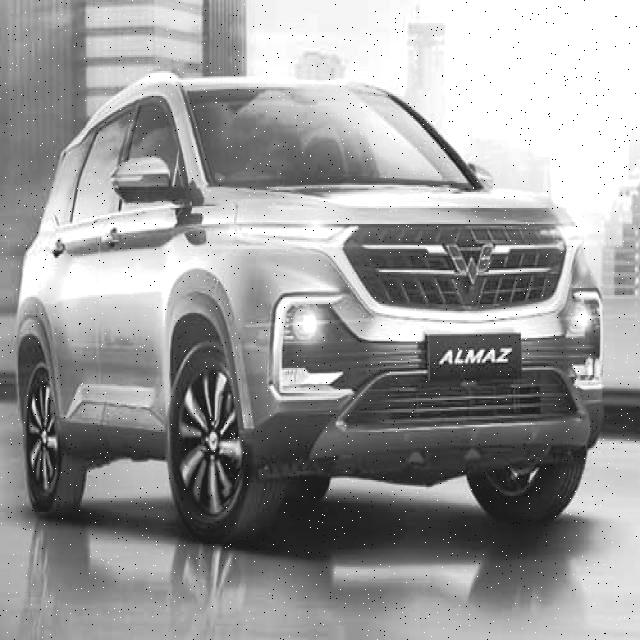Car: (149, 62, 613, 583)
